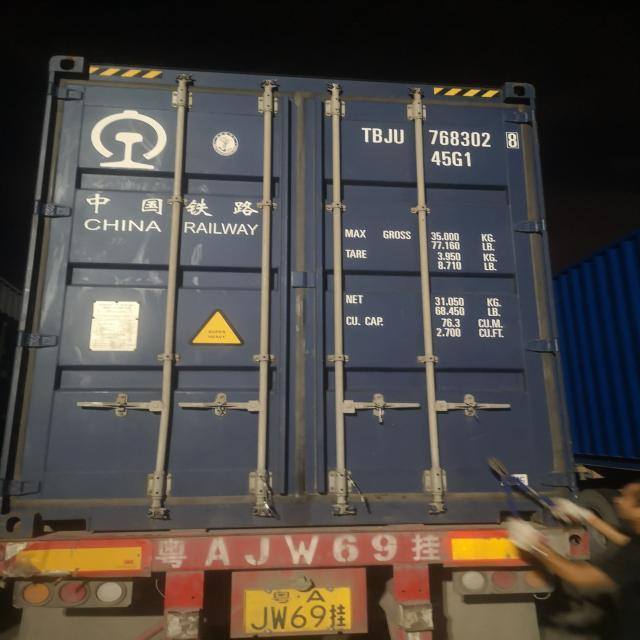ISO: (431, 150, 474, 169)
container_number: (364, 128, 516, 150)
